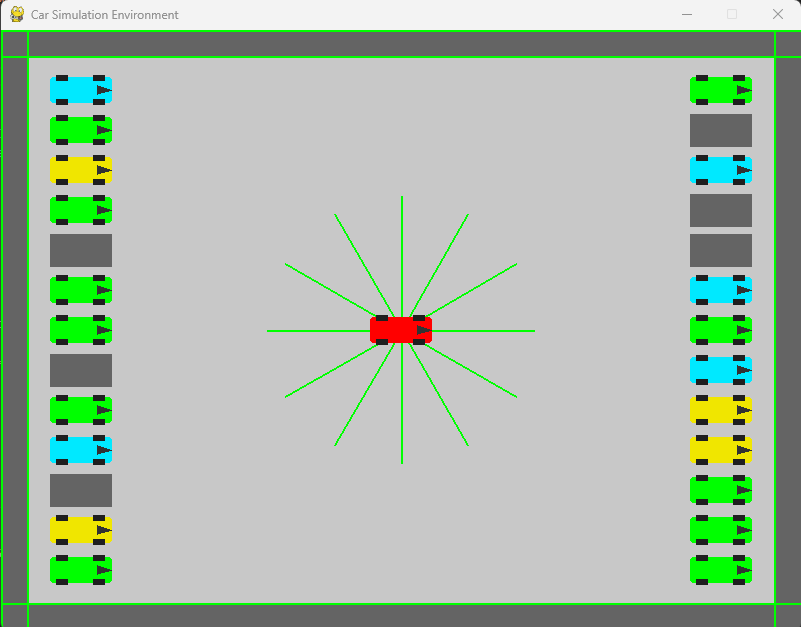ControlledCar: (365, 307, 442, 354)
ParkedCar: (684, 69, 755, 108), (686, 430, 756, 469), (45, 69, 114, 108), (47, 510, 117, 548), (47, 432, 118, 468), (686, 271, 751, 310), (689, 553, 759, 589), (688, 511, 756, 548), (685, 153, 756, 188), (46, 553, 115, 589), (49, 390, 114, 428), (682, 313, 757, 345), (47, 270, 115, 305), (688, 473, 756, 508), (688, 354, 751, 390), (684, 396, 754, 428), (47, 193, 115, 225), (48, 154, 115, 186), (48, 313, 114, 345), (47, 115, 111, 145)
ParkingSpot: (687, 230, 756, 272), (45, 230, 118, 269), (682, 112, 758, 149), (47, 351, 118, 387), (46, 474, 118, 509), (685, 193, 756, 228)
